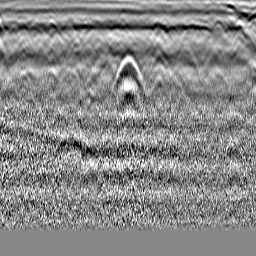cavity: (116, 49, 142, 79)
